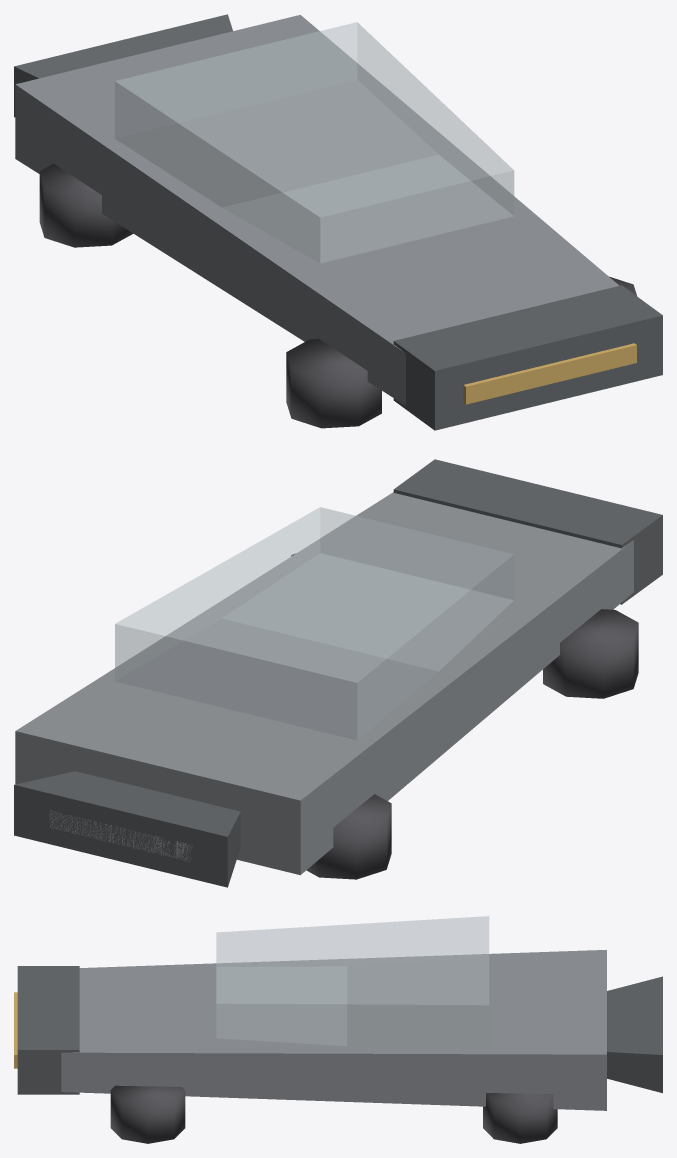
File: prop_hovercar.glb
3 renders of one model, top to bottom at view 1: azimuth 30°, elevation 25°; view 2: azimuth 150°, elevation 25°; view 3: azimuth 270°, elevation 25°, orthographic. The views are drawn at different scales.
Parts seen in each view (by area): view 1: prop_hovercar; view 2: prop_hovercar; view 3: prop_hovercar.
Boxes of the visible parts, bbox=[...] form: prop_hovercar: bbox=[14, 14, 662, 430]; prop_hovercar: bbox=[14, 459, 662, 887]; prop_hovercar: bbox=[14, 916, 662, 1143].
Size of the model in its own units: 2.4 by 1.08 by 5.23.
